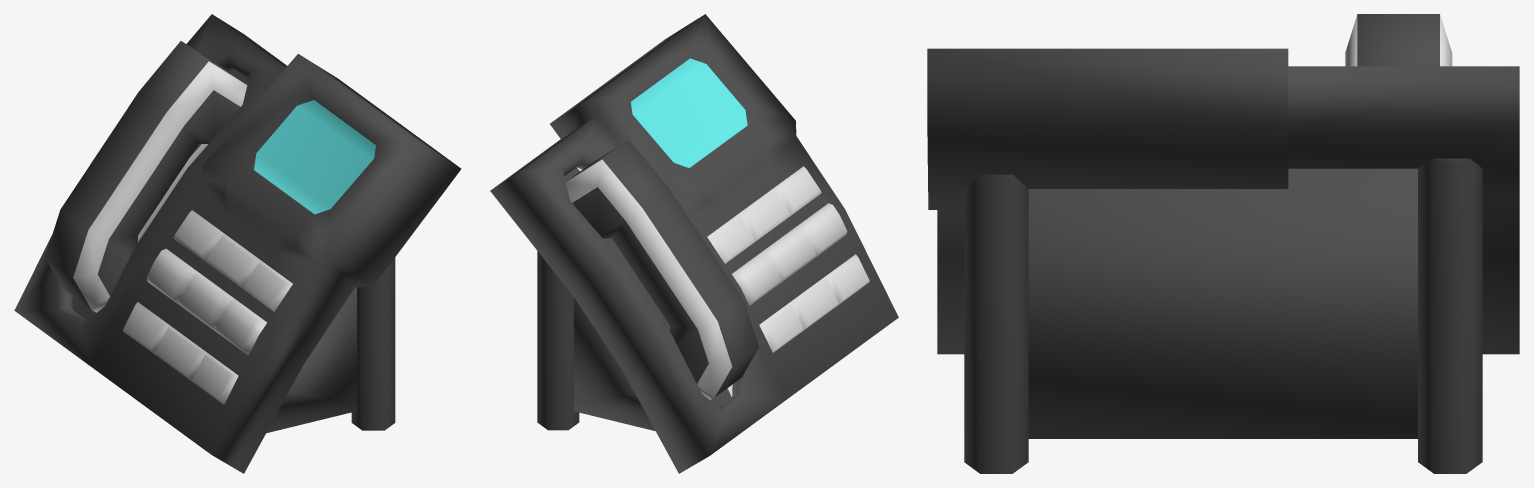
File: Escenario_Oficina_Telefono1.glb
3 renders of one model, left to right at view 1: azimuth 30°, elevation 25°; view 2: azimuth 150°, elevation 25°; view 3: azimuth 270°, elevation 25°, orthographic. The views are drawn at different scales.
Visible parts, largest first — view 1: Telefono1; view 2: Telefono1; view 3: Telefono1.
Part boxes in pixels (x1=…): Telefono1: x1=14, y1=14, x2=461, y2=473; Telefono1: x1=490, y1=14, x2=898, y2=473; Telefono1: x1=927, y1=14, x2=1519, y2=473.
Size of the model in its own units: 0.1354 by 0.1527 by 0.1905.
